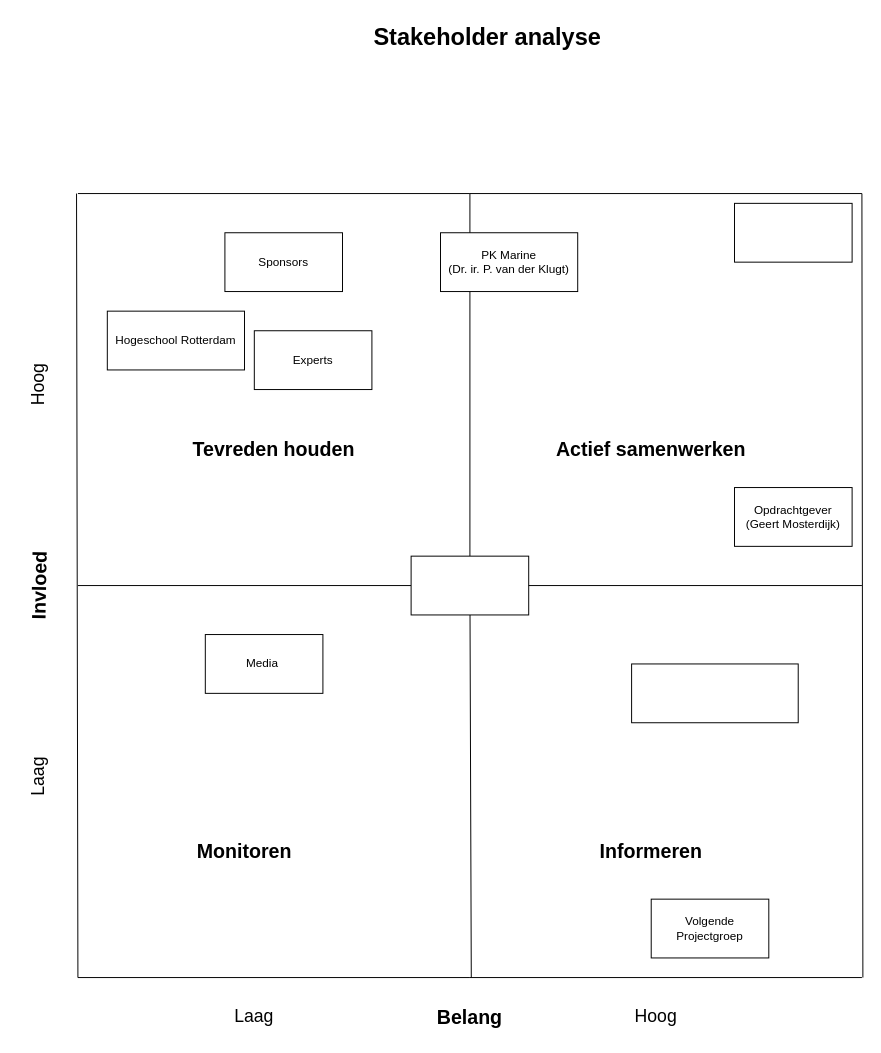
This 881x1053 diagram has some shape labels left out. Each missing label, with the box of its shape:
Aqualabs RDM: (410, 555, 529, 615)
Projectgroep: (734, 202, 852, 262)
Schippers/actieve gebruikers: (631, 663, 798, 723)
